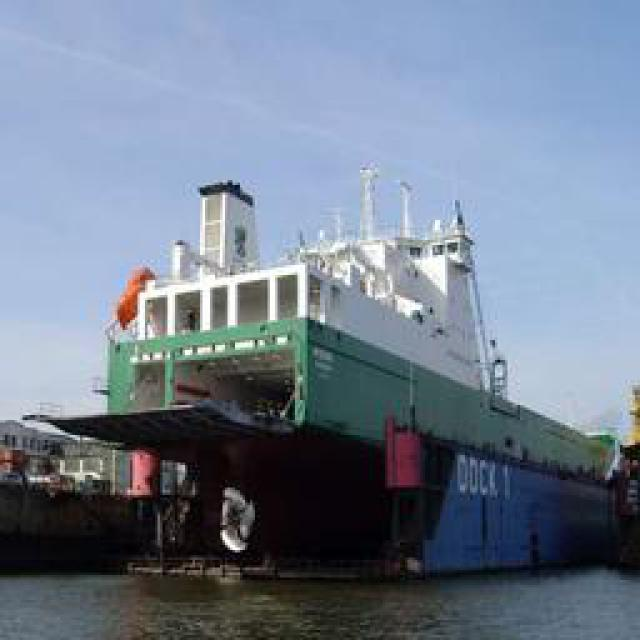Ship: (26, 157, 640, 563)
